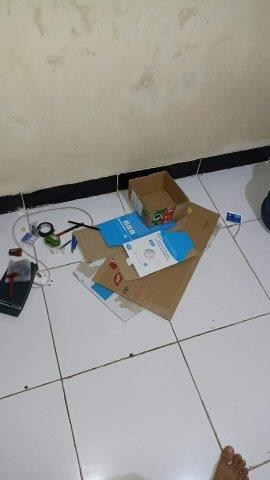kardus: (80, 201, 220, 321), (126, 172, 187, 216)
